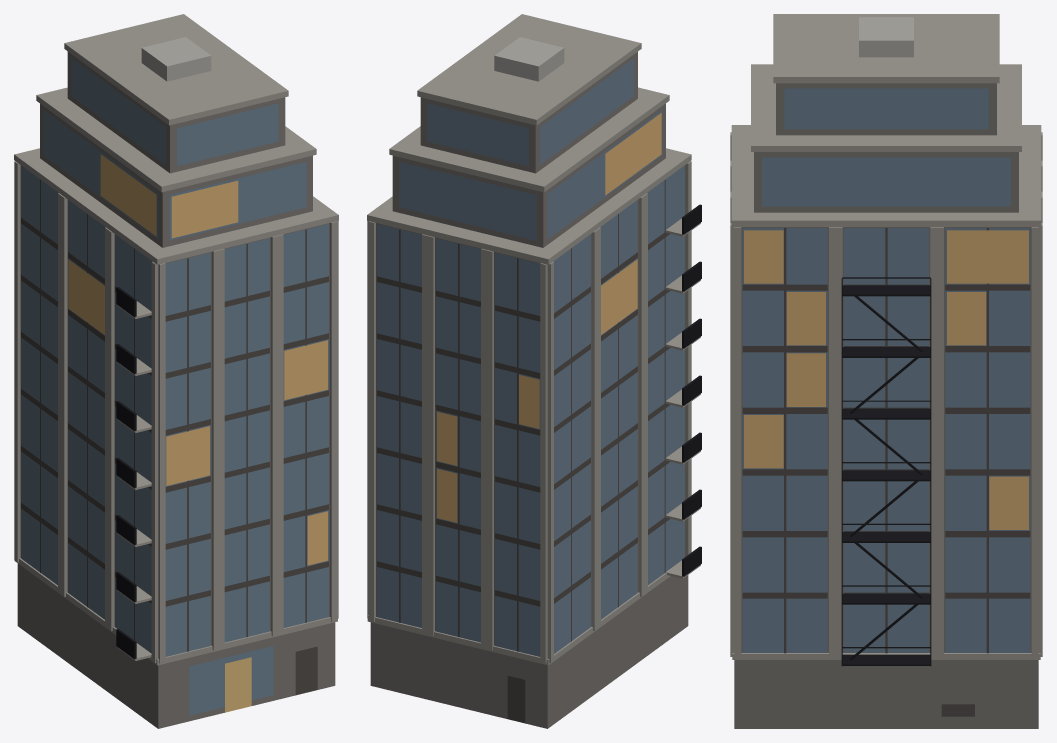
Rendered from tour_verre.glb.
The picture shows the model from 3 angles, left to right: view 1: azimuth 30°, elevation 25°; view 2: azimuth 150°, elevation 25°; view 3: azimuth 270°, elevation 25°; orthographic projection. The views are drawn at different scales.
Visible parts, largest first — view 1: tour_verre; view 2: tour_verre; view 3: tour_verre.
Part boxes in pixels (x1,y1,x2,y2): tour_verre: (14, 14, 338, 728); tour_verre: (367, 14, 701, 728); tour_verre: (730, 14, 1042, 728).
Size of the model in its own units: 9.82 by 26.08 by 11.3.
